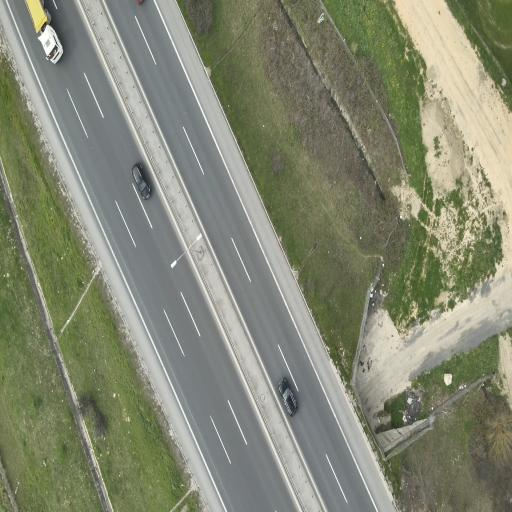car: (26, 0, 63, 63), (279, 378, 297, 416), (132, 163, 150, 199)
